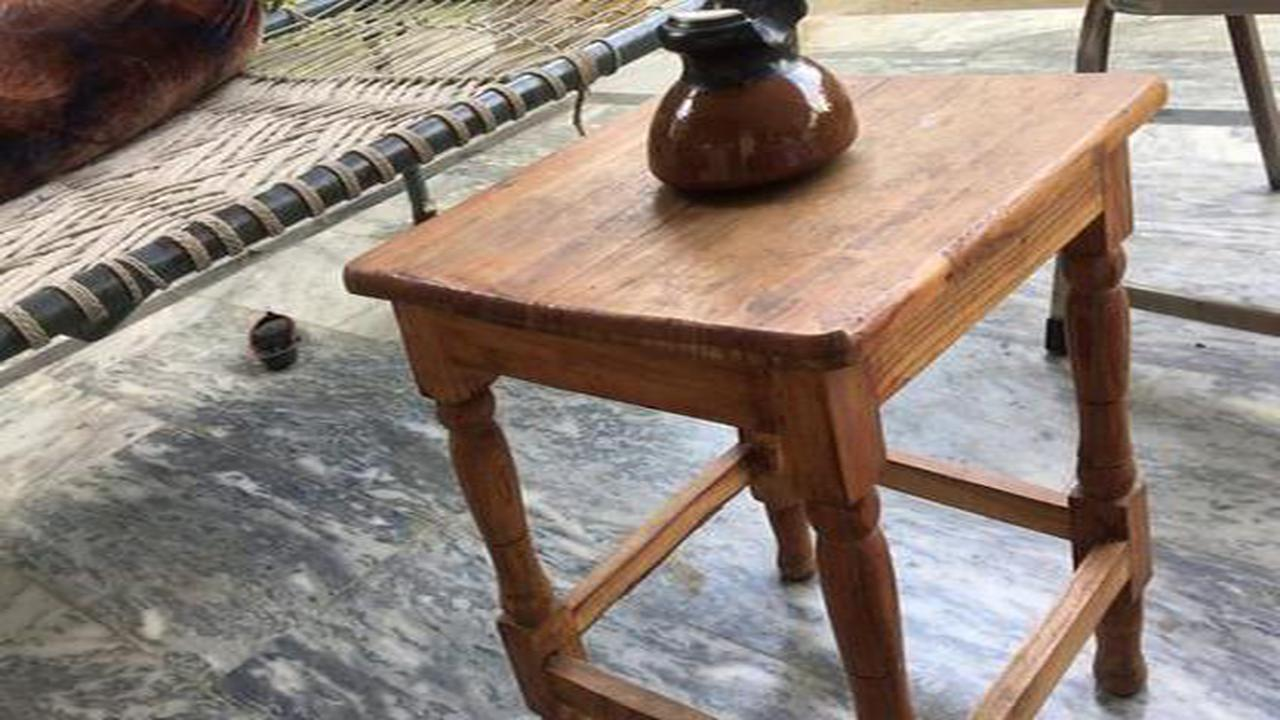insulator_pin: (610, 1, 871, 212)
